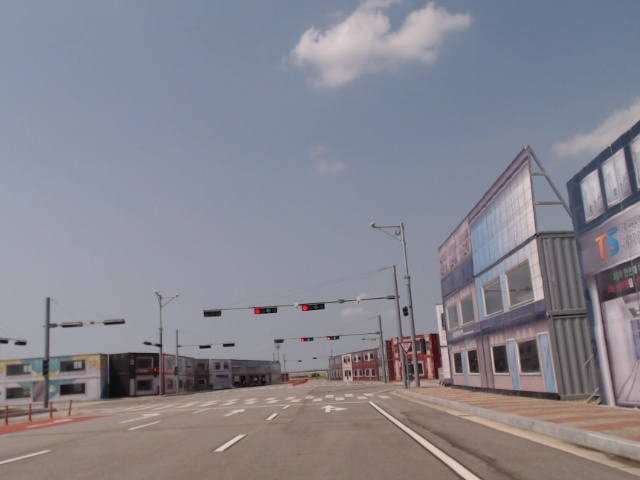left_green_4: (254, 307, 277, 313), (303, 304, 324, 310)
